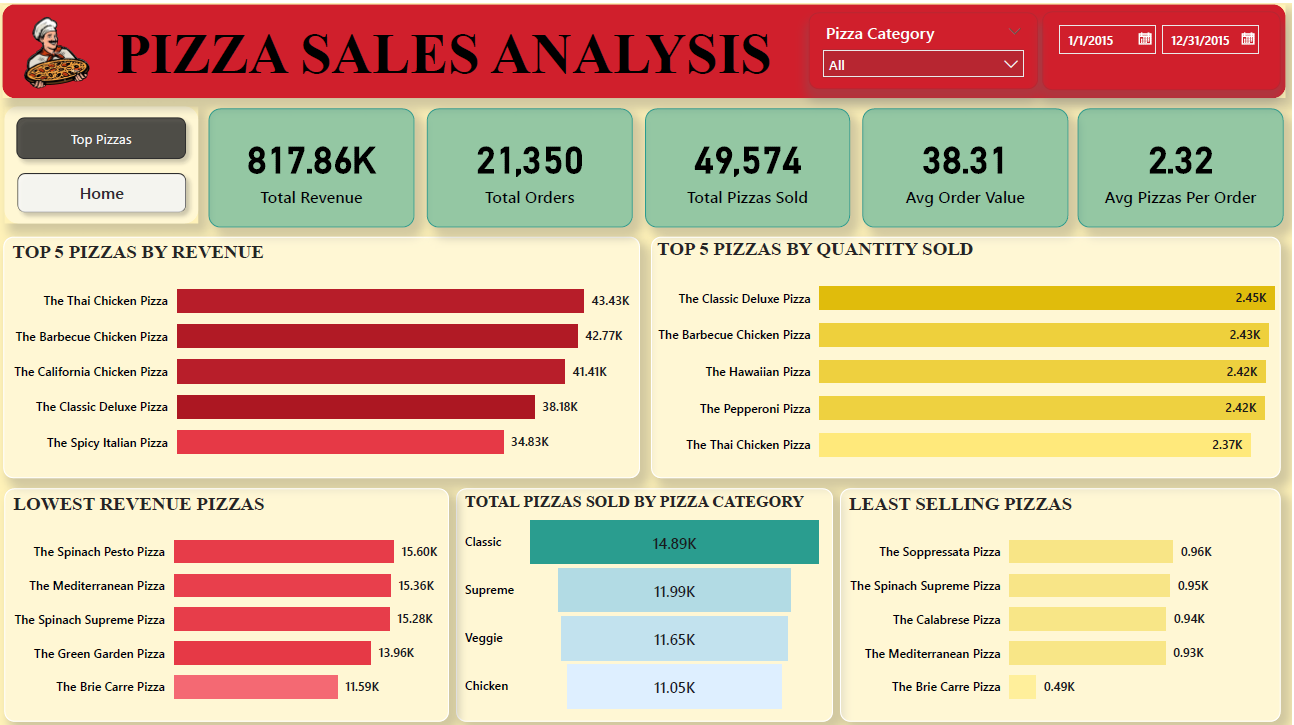

What the dashboard file says about the page in this screenshot:
{"tool":"powerbi","page":{"name":"Top Pizzas ","canvas":[1280,720],"ordinal":1},"visuals":[{"type":"shape","box":[5.6,101.7,192.8,116.1],"z":0},{"type":"shape","box":[4.3,1.4,1270,92.9],"z":1000},{"type":"card","fields":{"Values":["Measure.total_revenue"]},"box":[208.2,103.6,203.9,118.2],"z":2000},{"type":"textbox","box":[88.5,13,703.5,90],"z":3000},{"type":"image","box":[4.5,1.8,101.8,92.7],"z":4000},{"type":"slicer","fields":{"Values":["pizza_sales.order_date"]},"box":[1032.7,8.4,236.5,77.2],"z":5000},{"type":"slicer","fields":{"Values":["pizza_sales.pizza_category"]},"box":[802,8.7,227.3,76.7],"z":6000},{"type":"clusteredBarChart","title":"TOP 5 PIZZAS BY REVENUE","fields":{"Y":["Measure.total_revenue"],"Category":["pizza_sales.pizza_name"]},"box":[5,231.2,630,238.8],"z":7000},{"type":"card","fields":{"Values":["Measure.total_orders"]},"box":[424.1,103.6,203.9,118.2],"z":8000},{"type":"card","fields":{"Values":["Measure.total_pizzas_sold"]},"box":[640,104,203.3,117.5],"z":9000},{"type":"card","fields":{"Values":["Measure.average_order_value"]},"box":[855,104,204.2,117.5],"z":10000},{"type":"card","fields":{"Values":["Measure.average_pizzas_per_order"]},"box":[1068.3,104.2,203.3,117.5],"z":11000},{"type":"clusteredBarChart","title":"TOP 5 PIZZAS BY QUANTITY SOLD","fields":{"Y":["Measure.total_pizzas_sold"],"Category":["pizza_sales.pizza_name"]},"box":[646.2,231.2,622.5,238.8],"z":12000},{"type":"funnel","title":"TOTAL PIZZAS SOLD BY PIZZA CATEGORY","fields":{"Category":["pizza_sales.pizza_category"],"Y":["Measure.total_pizzas_sold"]},"box":[452.5,480,373.8,231.2],"z":13000},{"type":"clusteredBarChart","title":"LOWEST REVENUE PIZZAS","fields":{"Y":["Measure.total_revenue"],"Category":["pizza_sales.pizza_name"]},"box":[5.7,480,440,231.4],"z":14000},{"type":"clusteredBarChart","title":"LEAST SELLING PIZZAS","fields":{"Y":["Measure.total_pizzas_sold"],"Category":["pizza_sales.pizza_name"]},"box":[833.3,480,435.6,231.1],"z":15000},{"type":"pageNavigator","box":[9.4,104.4,185.6,58.3],"z":16000},{"type":"pageNavigator","box":[9.5,158.5,185.5,57.5],"z":17000}]}

Visuals, with their boxes in screenshot pixels (x1, y1, x2, y2), scaled from the page's 1280x720 canvas onto the 1294x725 screenshot:
shape: select_region(6, 102, 201, 219)
shape: select_region(4, 1, 1288, 95)
card - Measure.total_revenue: select_region(210, 104, 417, 223)
textbox: select_region(89, 13, 801, 104)
image: select_region(5, 2, 107, 95)
slicer - pizza_sales.order_date: select_region(1044, 8, 1283, 86)
slicer - pizza_sales.pizza_category: select_region(811, 9, 1041, 86)
"TOP 5 PIZZAS BY REVENUE" clusteredBarChart: select_region(5, 233, 642, 473)
card - Measure.total_orders: select_region(429, 104, 635, 223)
card - Measure.total_pizzas_sold: select_region(647, 105, 853, 223)
card - Measure.average_order_value: select_region(864, 105, 1071, 223)
card - Measure.average_pizzas_per_order: select_region(1080, 105, 1286, 223)
"TOP 5 PIZZAS BY QUANTITY SOLD" clusteredBarChart: select_region(653, 233, 1283, 473)
"TOTAL PIZZAS SOLD BY PIZZA CATEGORY" funnel: select_region(457, 483, 835, 716)
"LOWEST REVENUE PIZZAS" clusteredBarChart: select_region(6, 483, 451, 716)
"LEAST SELLING PIZZAS" clusteredBarChart: select_region(842, 483, 1283, 716)
pageNavigator: select_region(10, 105, 197, 164)
pageNavigator: select_region(10, 160, 197, 218)
